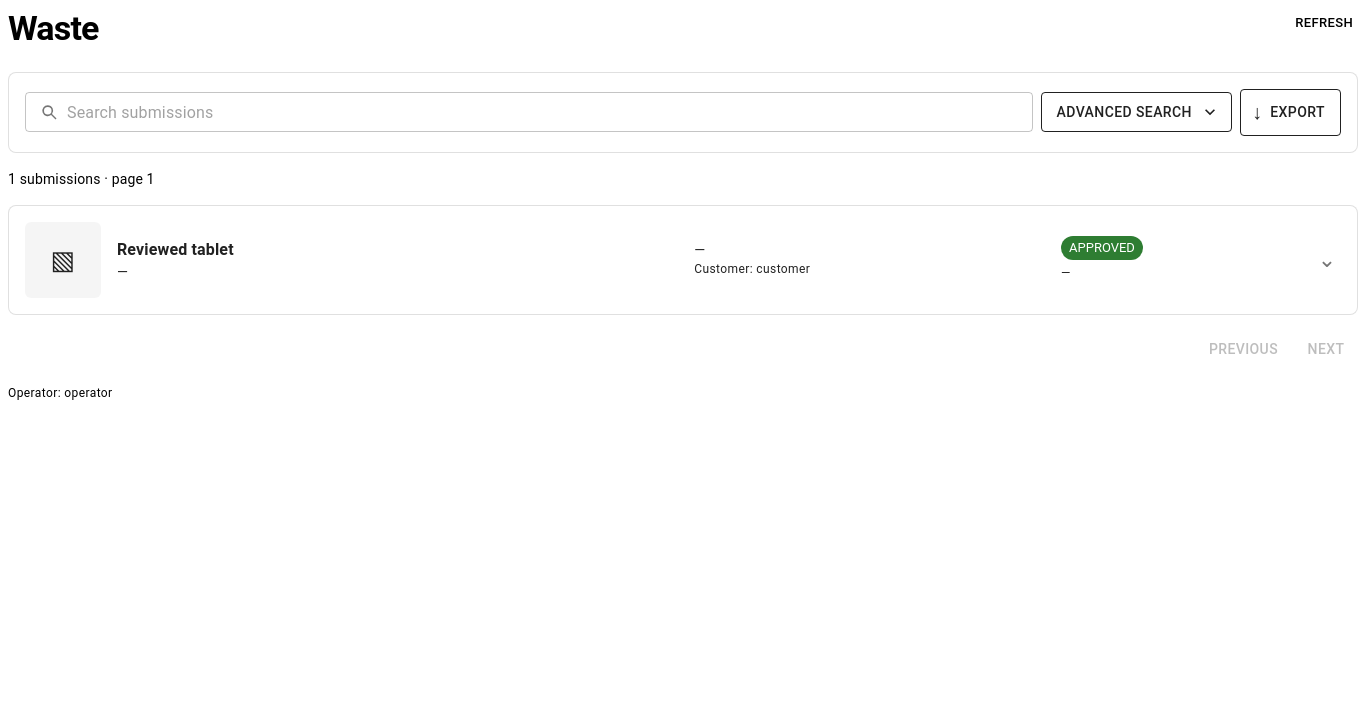
Test case: shows final reviewed facts without asking the original verifier for another decision
This screenshot has width=1366, height=726.
Click the button with aria-label "Open details: Reviewed tablet": click(63, 260) [9,206,1305,314]
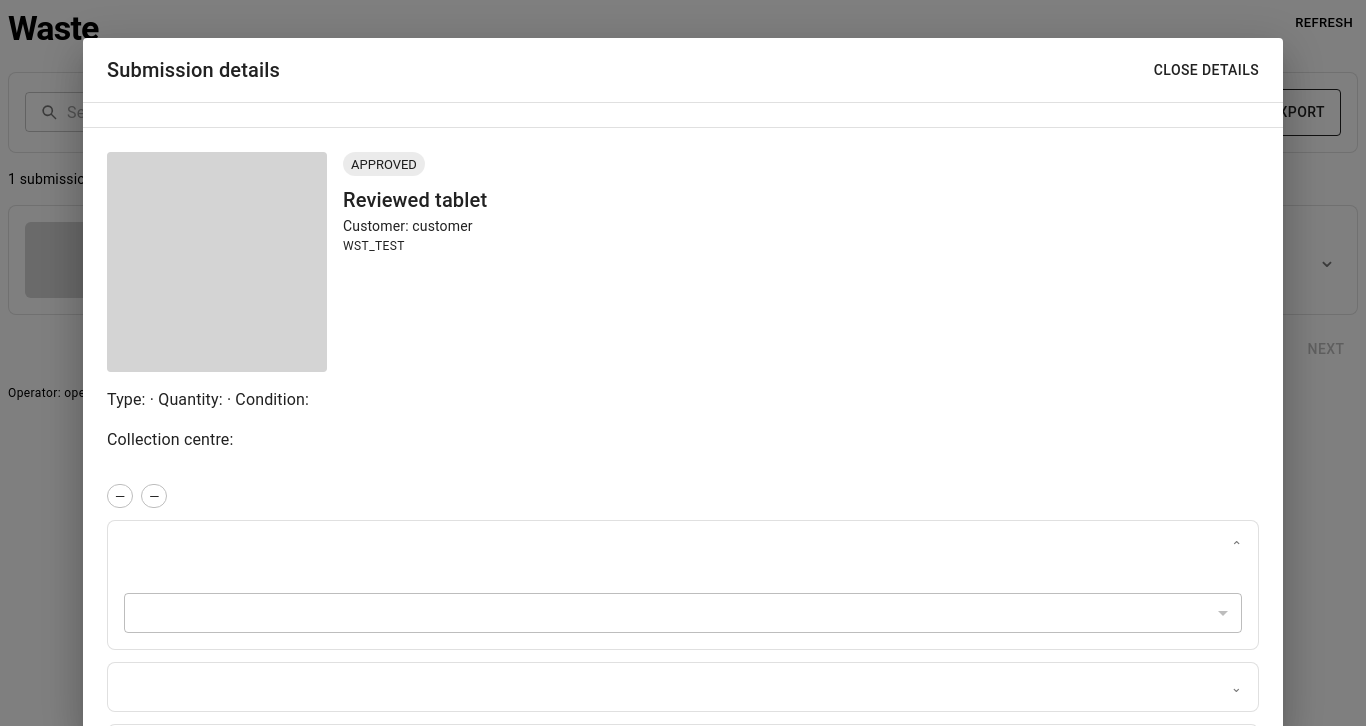
Result: the heading "Reviewed tablet" is shown at [343,184,487,216]
